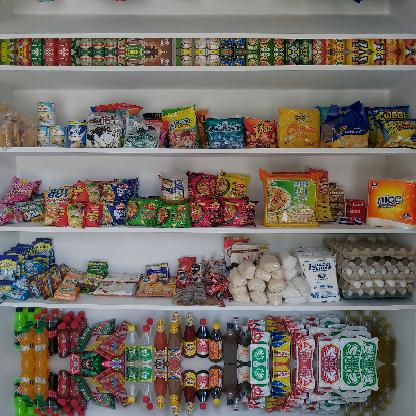Lady-s-Choice: (160, 172, 190, 204)
